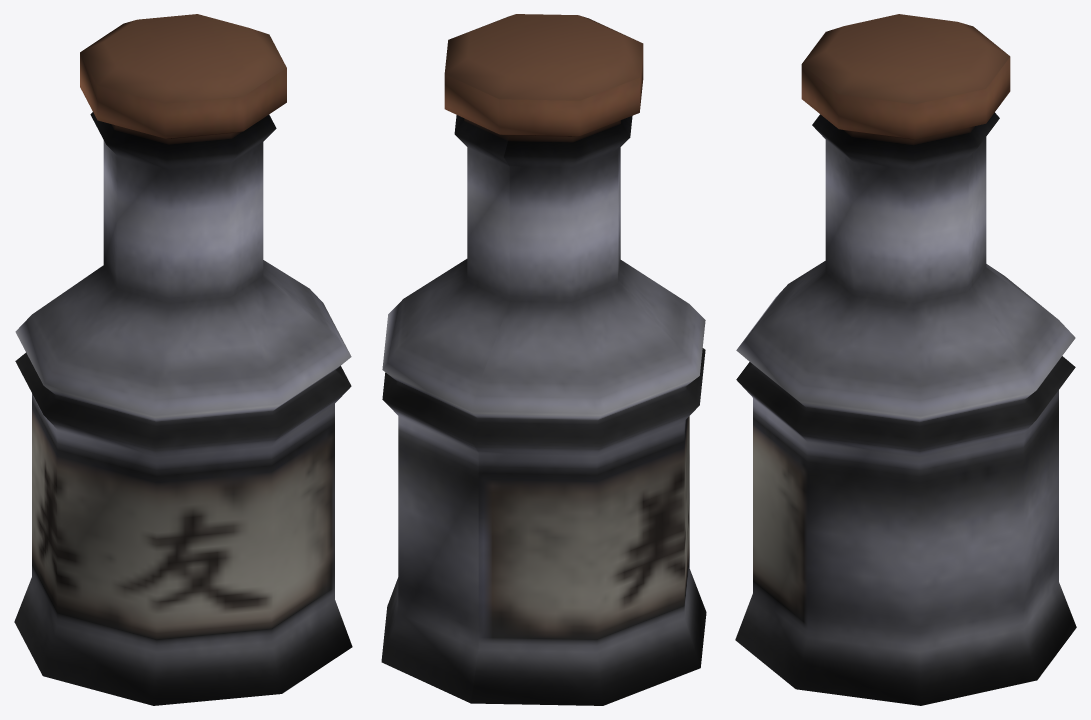
The model's file is Potion3.FBX.
3 views of the same model, side by side, from view 1: azimuth 30°, elevation 25°; view 2: azimuth 150°, elevation 25°; view 3: azimuth 270°, elevation 25° (orthographic).
Visible parts, largest first — view 1: potion3; view 2: potion3; view 3: potion3.
Boxes of the visible parts, box(x1,y1,x2,y2) form: potion3: box(14, 14, 352, 705); potion3: box(381, 14, 706, 705); potion3: box(735, 14, 1076, 705).
Bounding box in the file's own units: 7.7 × 14.56 × 7.7.
